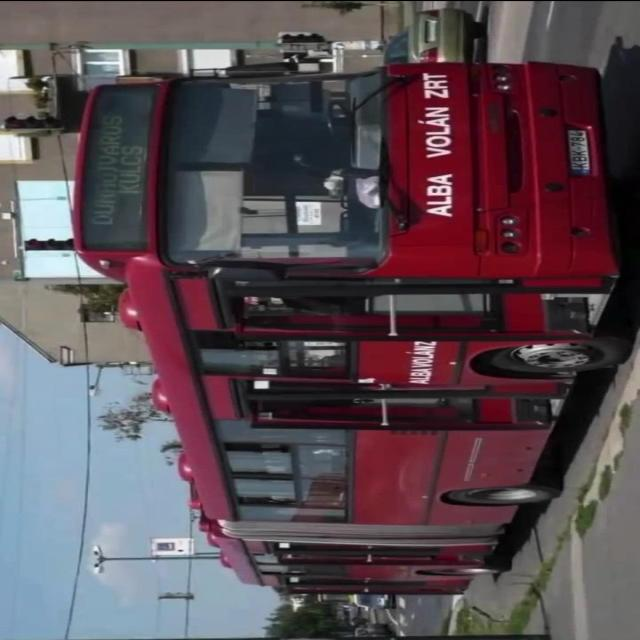bus: (69, 56, 640, 598)
